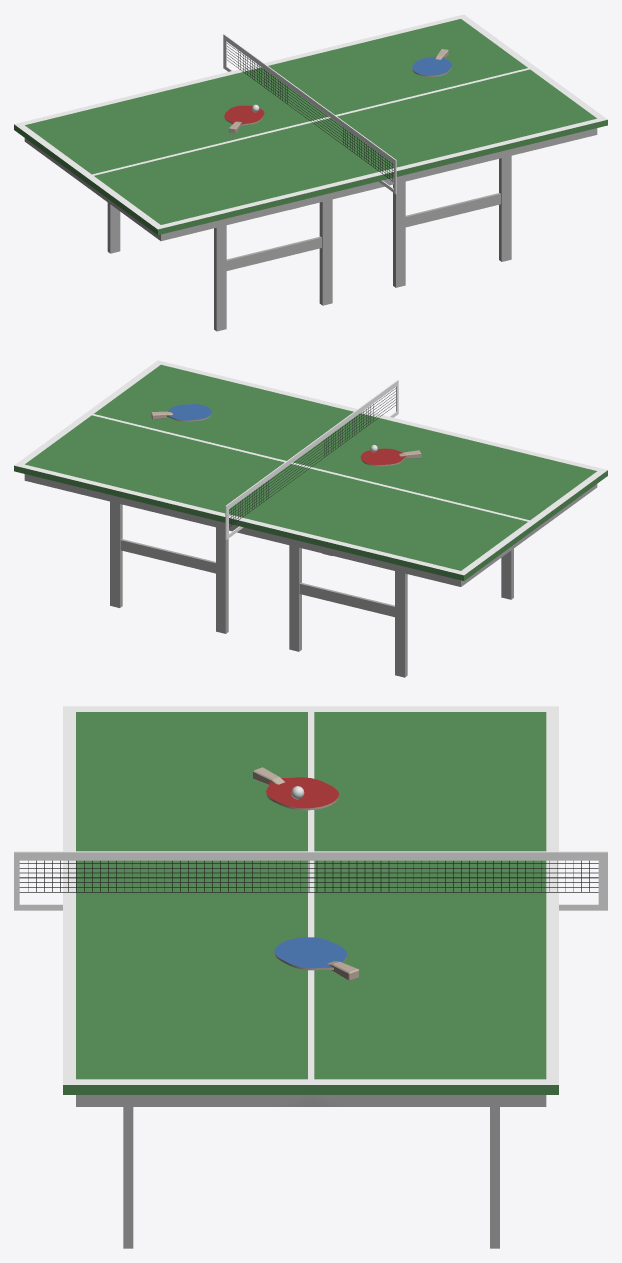
The model's file is tablePing.gltf.
3 renders of one model, top to bottom at view 1: azimuth 30°, elevation 25°; view 2: azimuth 150°, elevation 25°; view 3: azimuth 270°, elevation 25°, orthographic. The views are drawn at different scales.
Parts seen in each view (by area): view 1: table, blue paddle, red paddle; view 2: table, blue paddle, red paddle; view 3: table, blue paddle, red paddle.
Boxes of the visible parts, left/top/right/bottom form: table: left=14, top=14, right=607, bottom=331; blue paddle: left=412, top=49, right=452, bottom=76; red paddle: left=224, top=105, right=264, bottom=133; table: left=14, top=360, right=607, bottom=677; blue paddle: left=151, top=404, right=211, bottom=421; red paddle: left=360, top=448, right=421, bottom=466; table: left=14, top=706, right=607, bottom=1248; blue paddle: left=274, top=937, right=359, bottom=980; red paddle: left=253, top=767, right=338, bottom=810.
Bounding box in the file's own units: 2.21 × 0.7885 × 1.47.
Materials: 1 (1 with a texture image).
